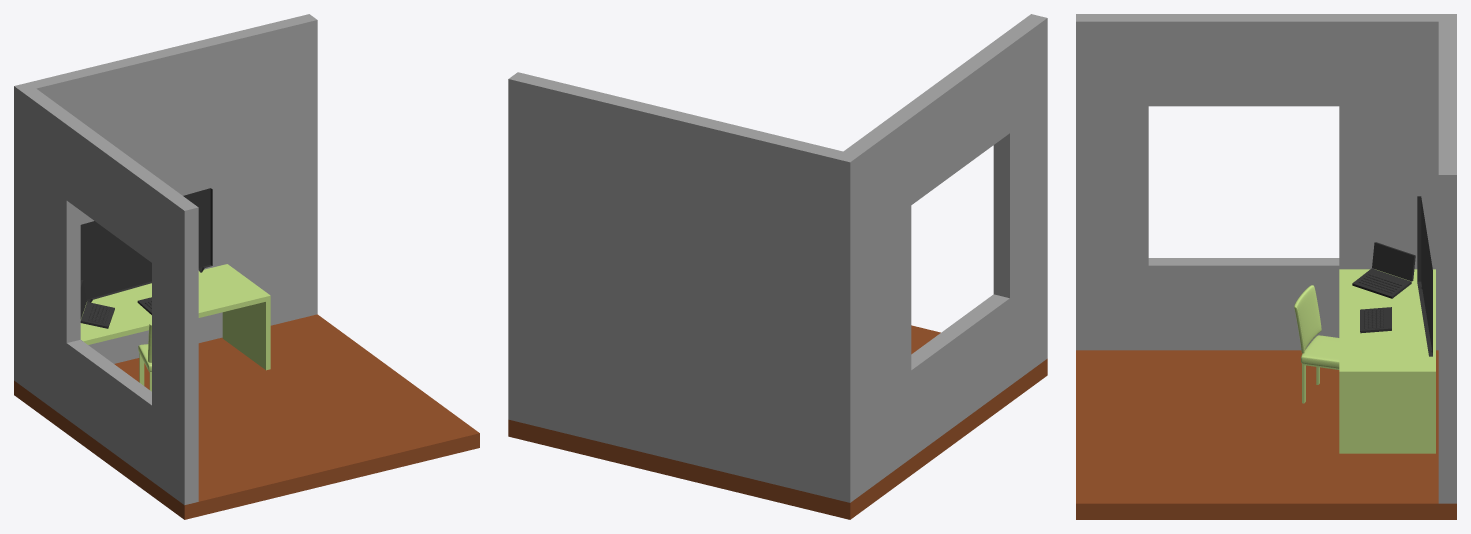
The model's file is room01x2.glb.
3 renders of one model, left to right at view 1: azimuth 30°, elevation 25°; view 2: azimuth 150°, elevation 25°; view 3: azimuth 270°, elevation 25°, orthographic. The views are drawn at different scales.
Visible parts, largest first — view 1: 00 room start.001, 00 room start.003, Cube, Plane.003, Cube.001, Sphere.002; view 2: 00 room start.001, 00 room start.003; view 3: 00 room start.001, 00 room start.003, Cube, Sphere.002, Cube.001, Plane.003, Cube.002.
Boxes of the visible parts, left/top/right/bottom form: 00 room start.001: left=14, top=14, right=317, bottom=505; 00 room start.003: left=14, top=314, right=479, bottom=519; Cube: left=80, top=264, right=270, bottom=370; Plane.003: left=80, top=188, right=212, bottom=302; Cube.001: left=80, top=280, right=114, bottom=328; Sphere.002: left=138, top=324, right=151, bottom=391; 00 room start.001: left=508, top=14, right=1047, bottom=502; 00 room start.003: left=508, top=325, right=1047, bottom=519; 00 room start.001: left=1076, top=14, right=1456, bottom=503; 00 room start.003: left=1076, top=350, right=1456, bottom=519; Cube: left=1339, top=269, right=1435, bottom=453; Sphere.002: left=1294, top=285, right=1339, bottom=403; Cube.001: left=1352, top=242, right=1415, bottom=298; Plane.003: left=1417, top=196, right=1432, bottom=356; Cube.002: left=1360, top=307, right=1391, bottom=333.
Size of the model in its own units: 3.15 by 3.15 by 3.15.
